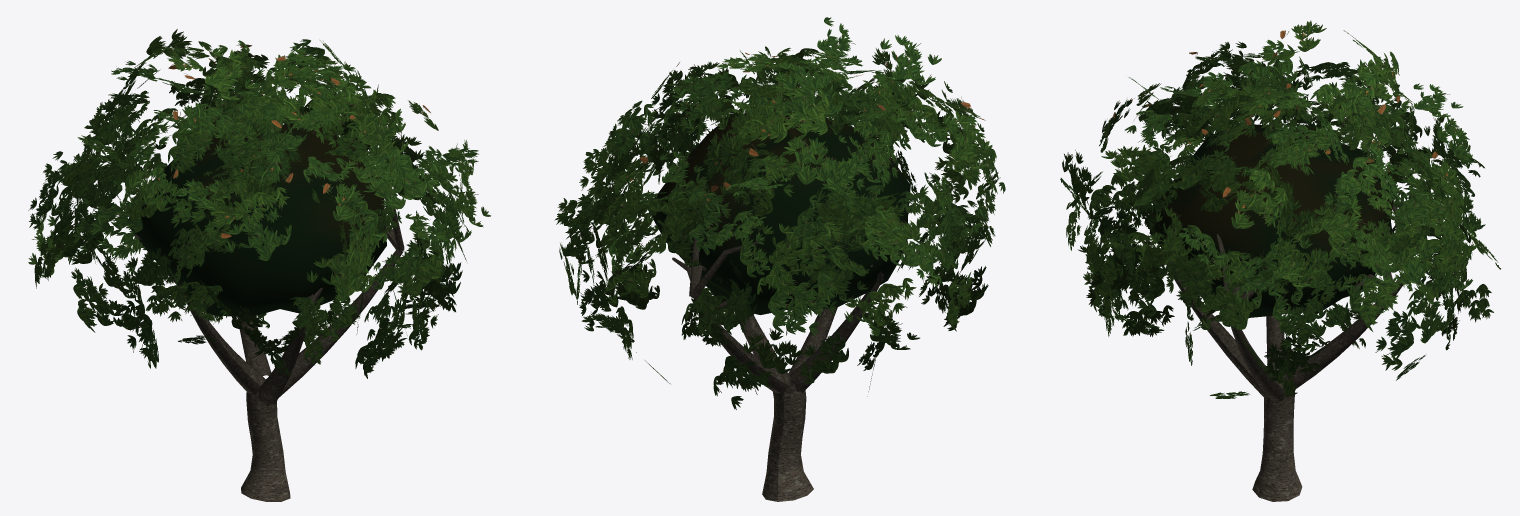
File: mango.glb
3 renders of one model, left to right at view 1: azimuth 30°, elevation 25°; view 2: azimuth 150°, elevation 25°; view 3: azimuth 270°, elevation 25°, orthographic. The views are drawn at different scales.
Visible parts, largest first — view 1: mango_leaves, mango_core, mango_wood; view 2: mango_leaves, mango_core, mango_wood; view 3: mango_leaves, mango_core, mango_wood.
Part boxes in pixels (x1,y1,x2,y2): mango_leaves: (28, 29, 490, 378); mango_core: (128, 119, 386, 316); mango_wood: (135, 208, 404, 501); mango_leaves: (554, 17, 1005, 409); mango_core: (648, 114, 910, 314); mango_wood: (672, 238, 883, 501); mango_leaves: (1060, 20, 1500, 398); mango_core: (1150, 123, 1393, 317); mango_wood: (1160, 202, 1406, 501).
Bounding box in the file's own units: 7.65 × 8.05 × 7.67.
3 materials, 2 textured.
